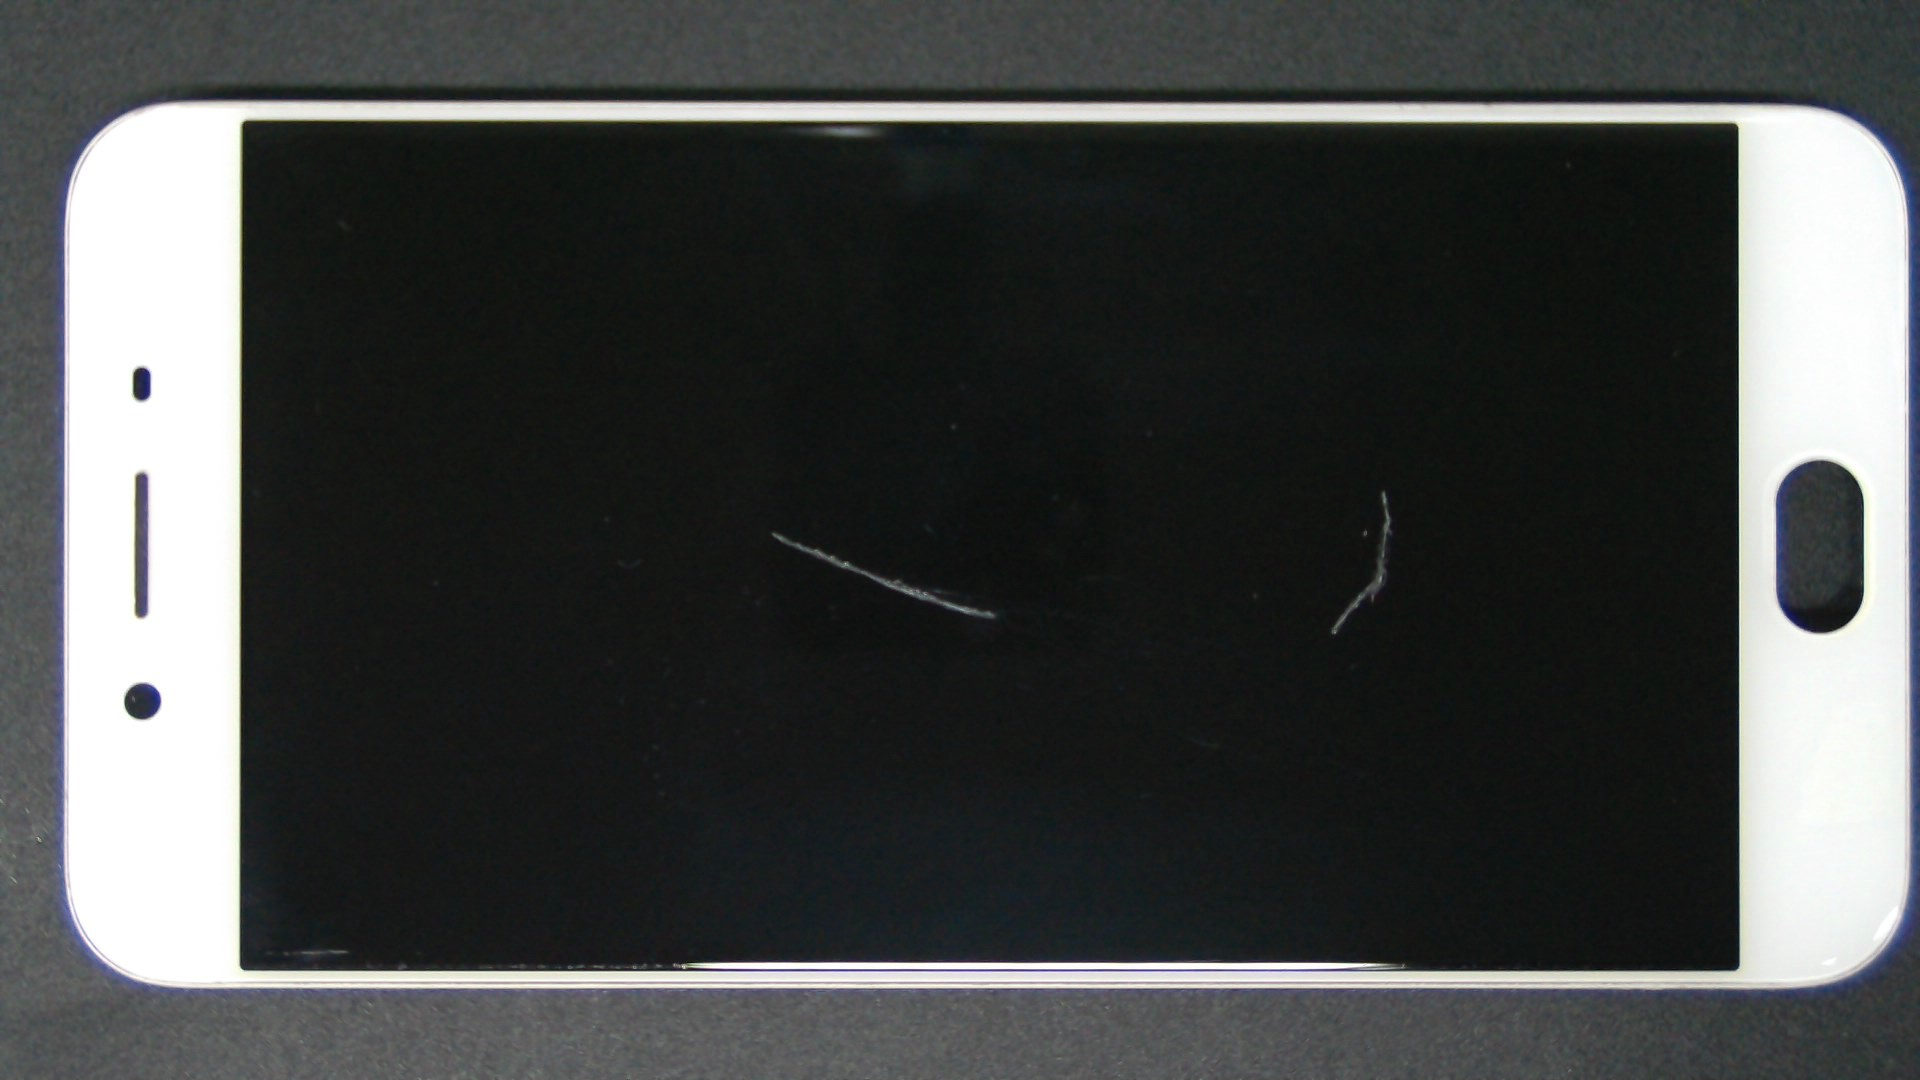oil: (683, 264, 1920, 794), (692, 244, 1920, 736), (386, 265, 1158, 799)
